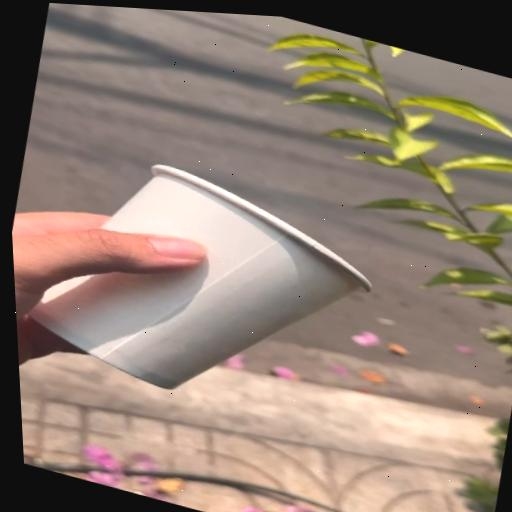Ly_giay: (30, 164, 370, 388), (30, 165, 369, 388)
